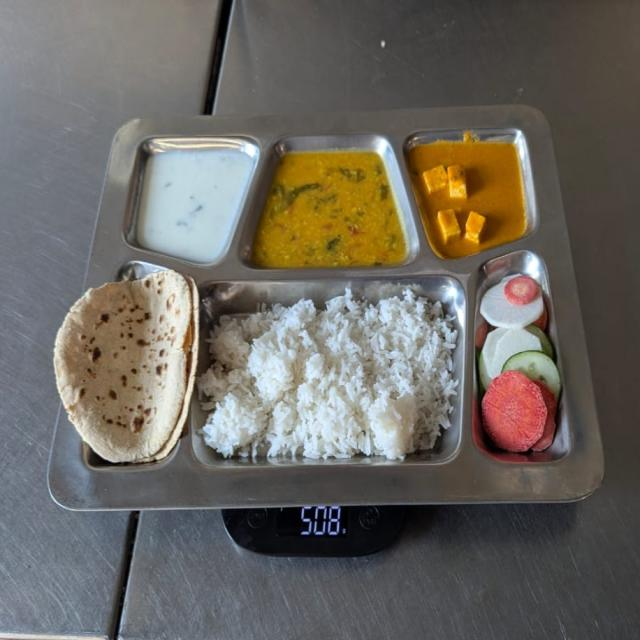Chapati: (54, 268, 200, 466)
Dal: (262, 146, 412, 274)
Paneer Curry: (406, 141, 531, 258)
Raita: (130, 137, 260, 270)
Salad: (475, 270, 568, 470)
White Rice: (202, 292, 462, 468)
